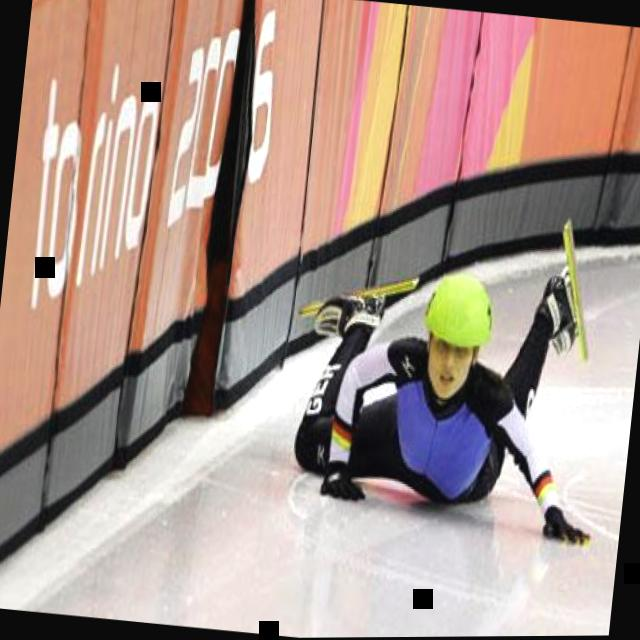Fall-Detected: (273, 207, 624, 540)
